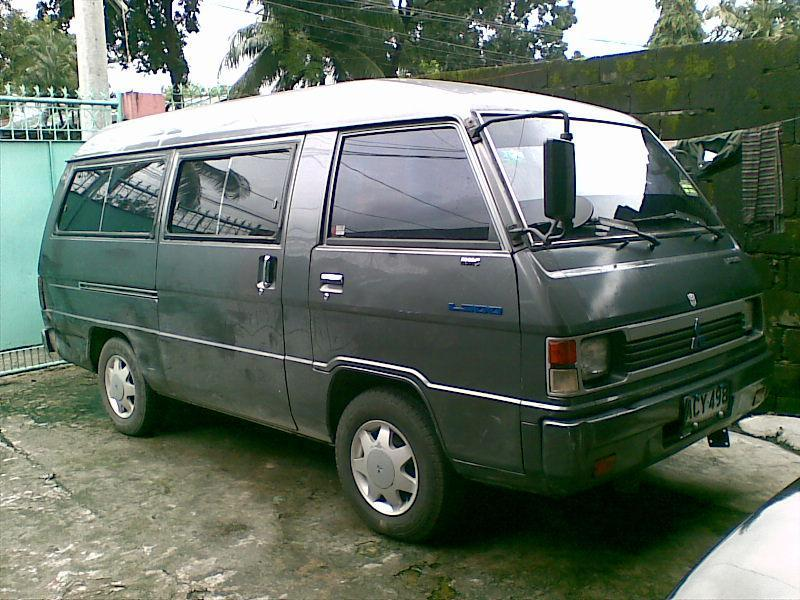van: (37, 76, 774, 540)
